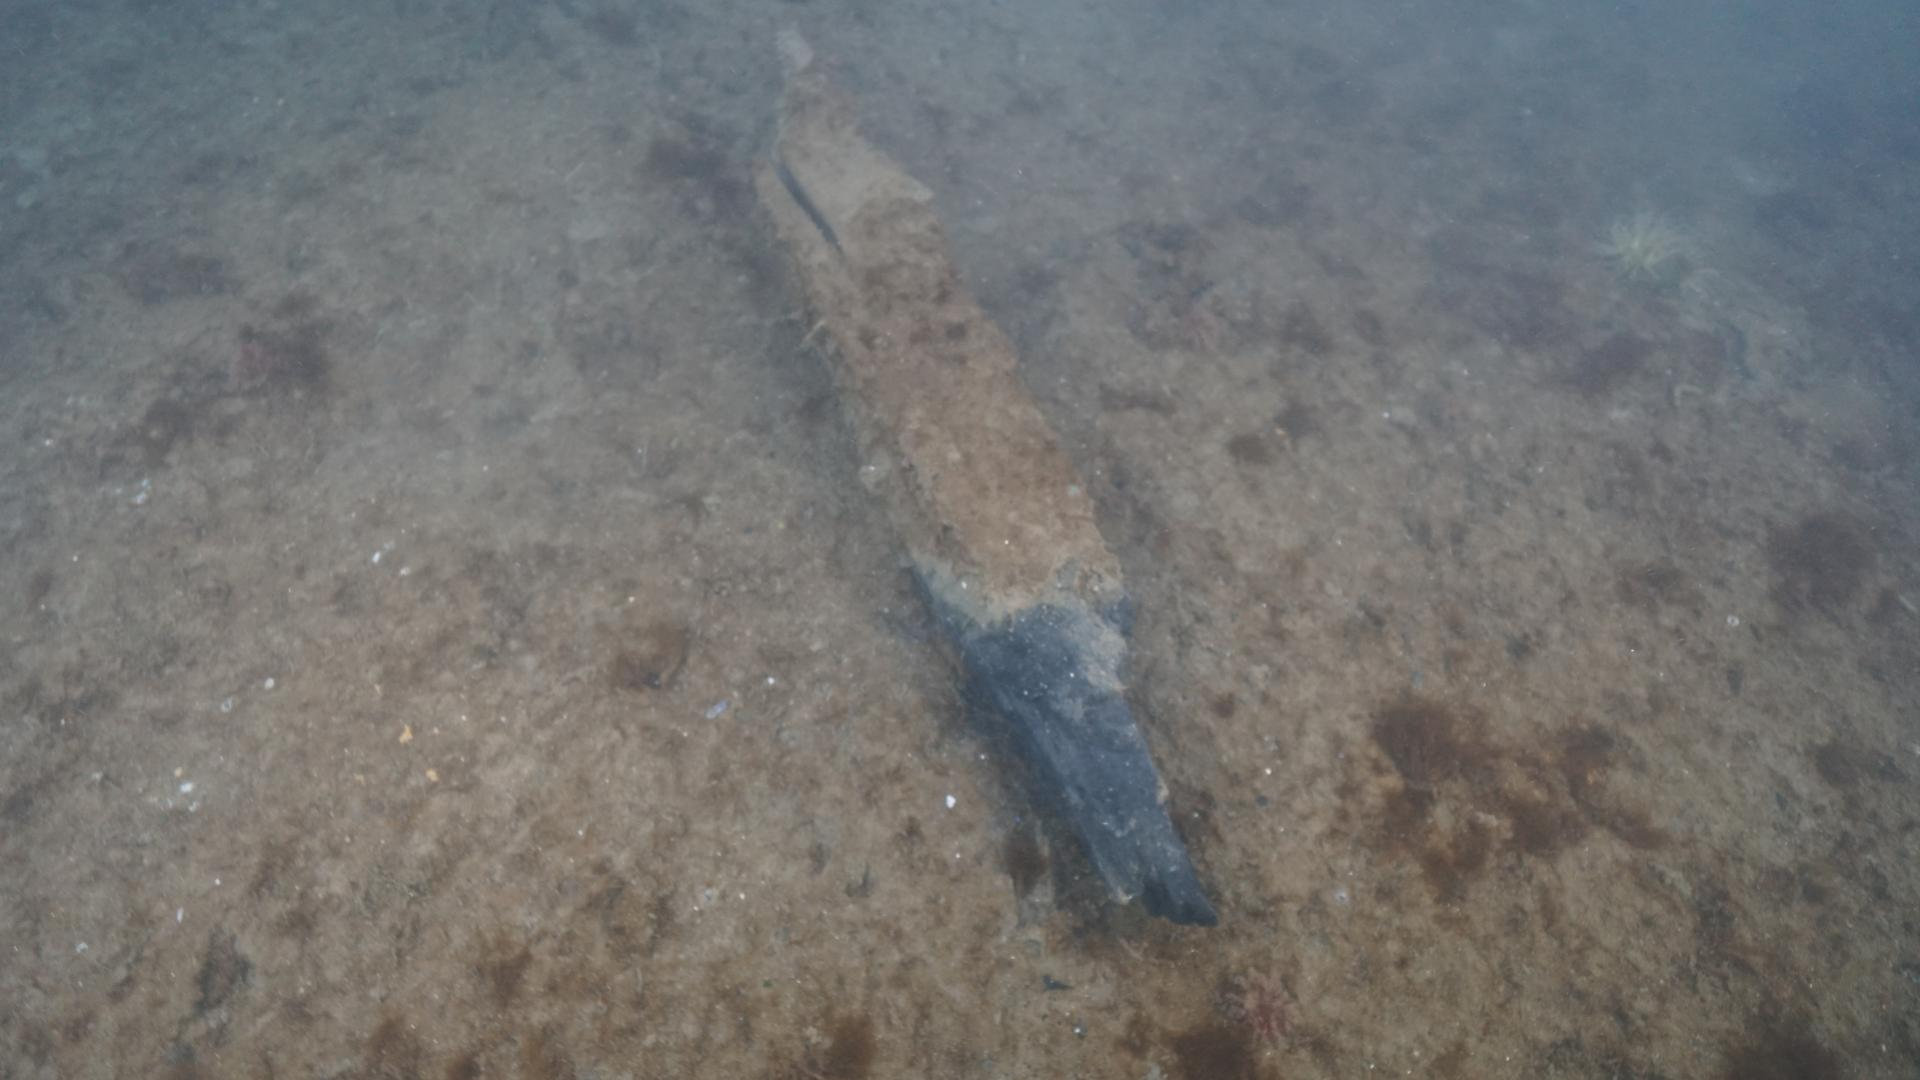wood: (713, 84, 1222, 928)
